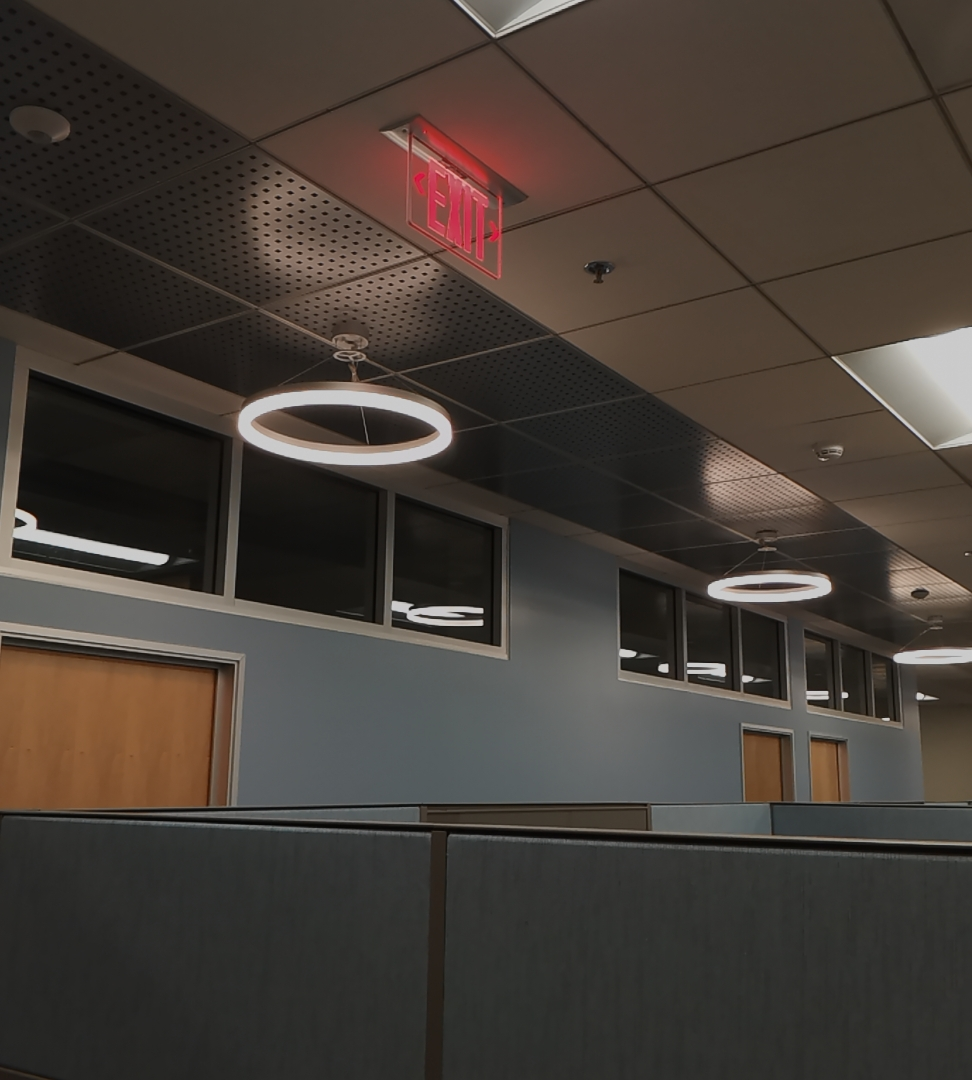emergency_exit: (400, 121, 508, 281)
